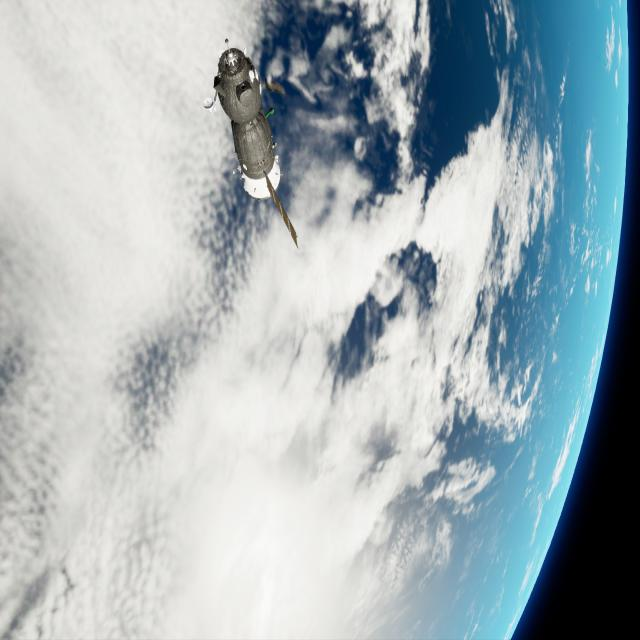Satellites revolving around earth: (2, 1, 632, 638)
